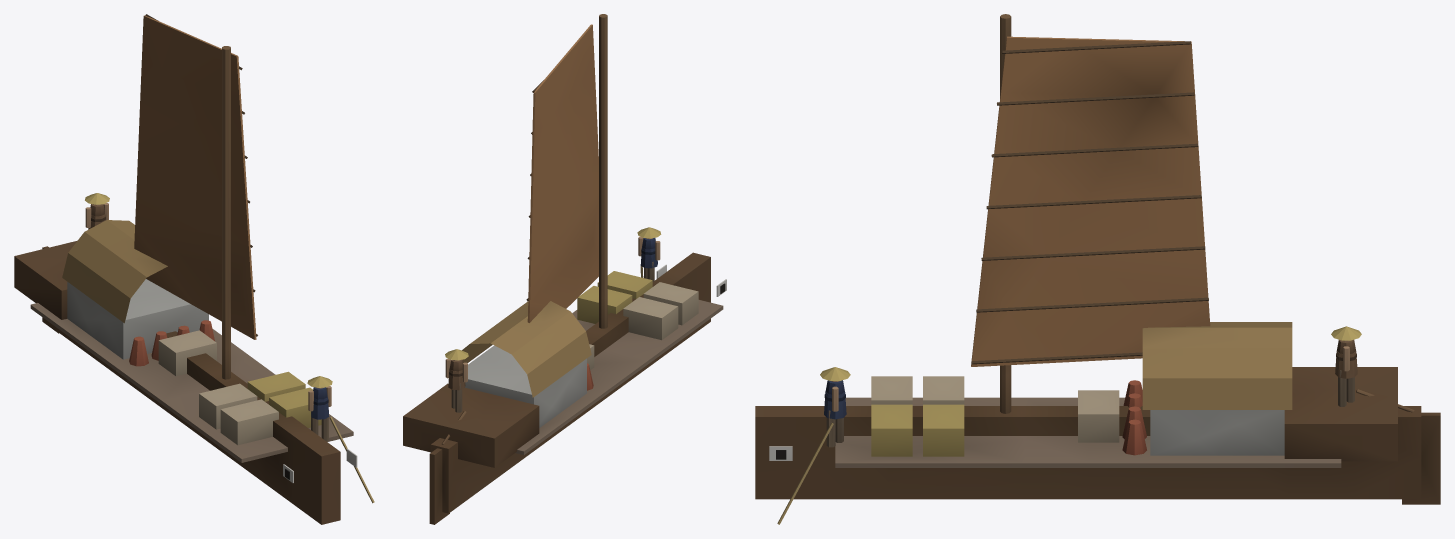
File: boat.glb
The picture shows the model from 3 angles, left to right: view 1: azimuth 30°, elevation 25°; view 2: azimuth 150°, elevation 25°; view 3: azimuth 270°, elevation 25°; orthographic projection. The views are drawn at different scales.
Visible parts, largest first — view 1: base; view 2: base; view 3: base.
Part boxes in pixels (left/top/right/bottom): base: left=14, top=14, right=374, bottom=524; base: left=403, top=14, right=726, bottom=524; base: left=755, top=14, right=1440, bottom=524.
Size of the model in its own units: 3 by 10.4 by 13.27.
